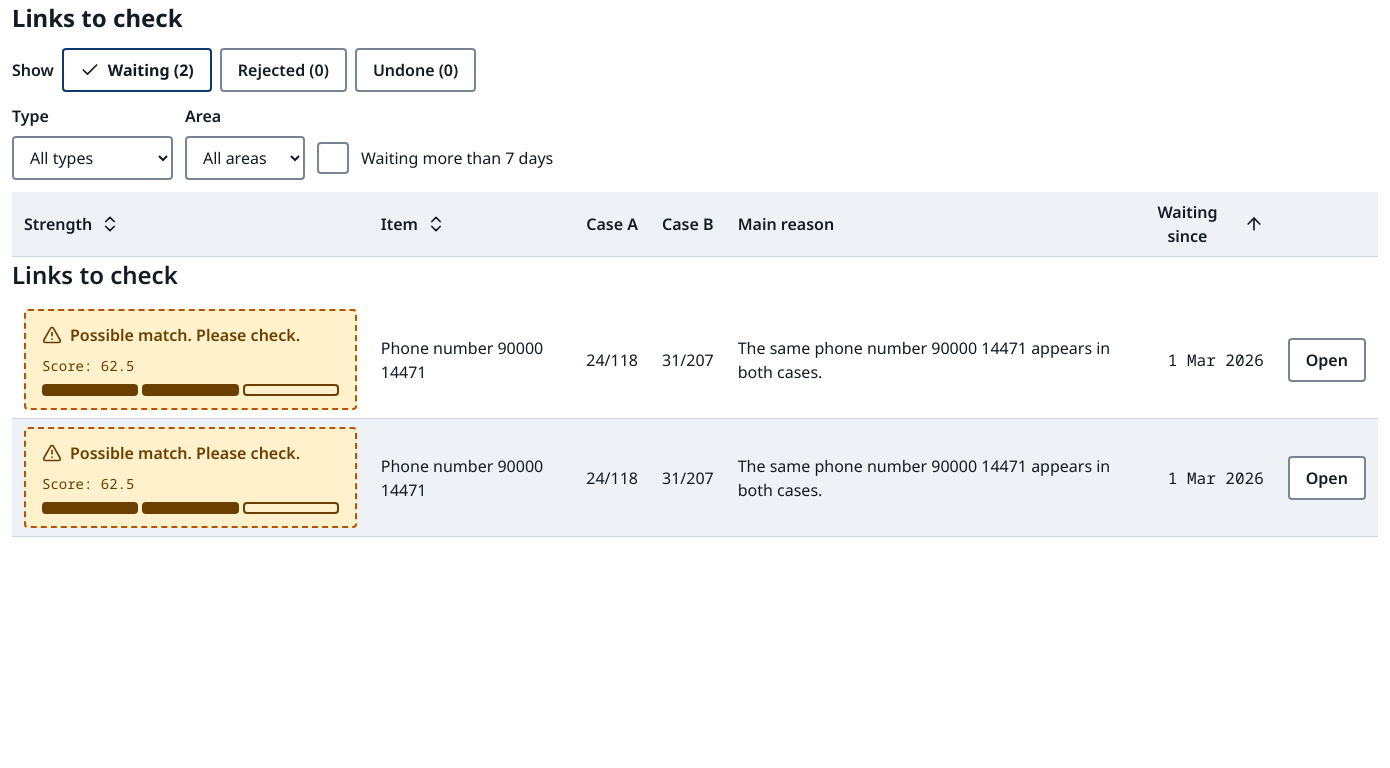
Confirm acts at once and sends the state the officer saw
Step 1. Click the 1st button "Open" → (1327, 360), box [1288,338,1366,382]
(page scrolled)
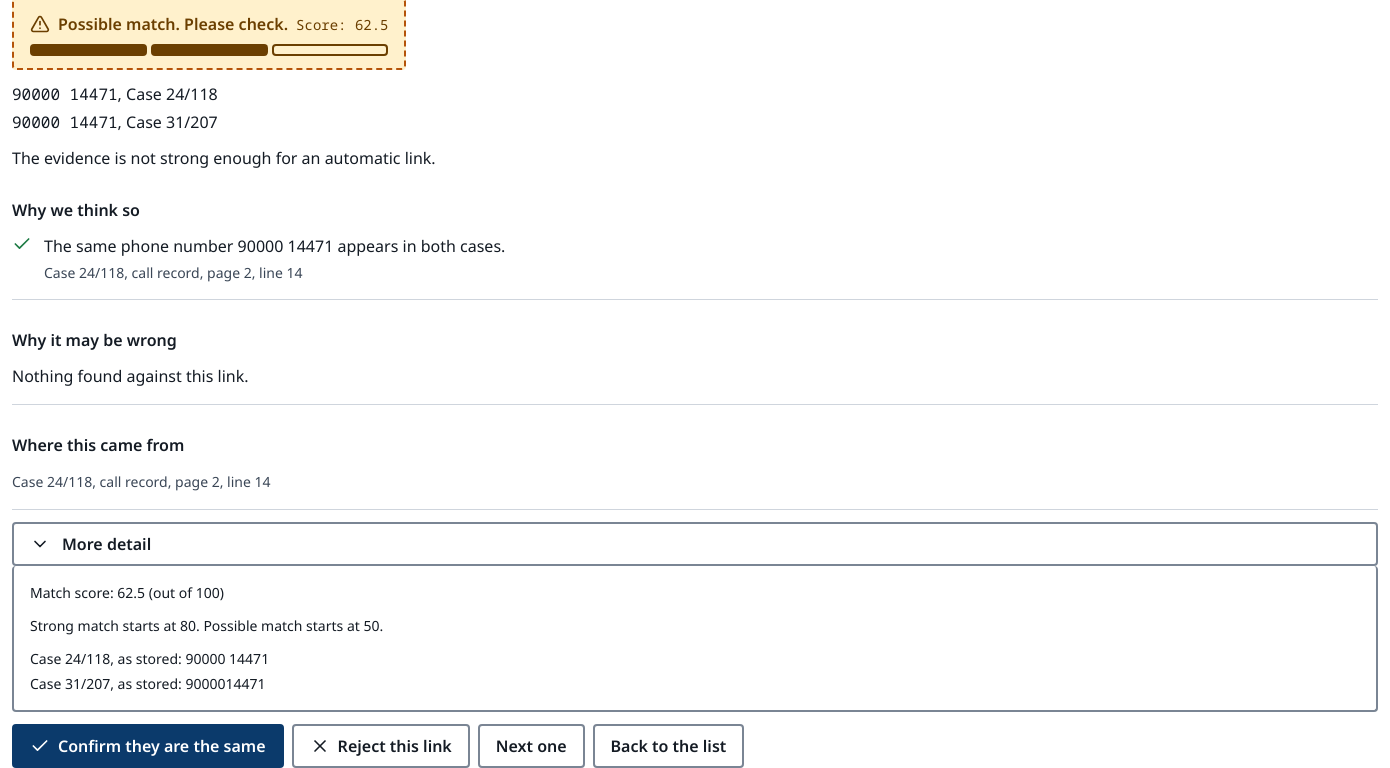
Step 2. Click the button "Confirm they are the same" → (148, 746), box [12,724,284,767]
(page scrolled)
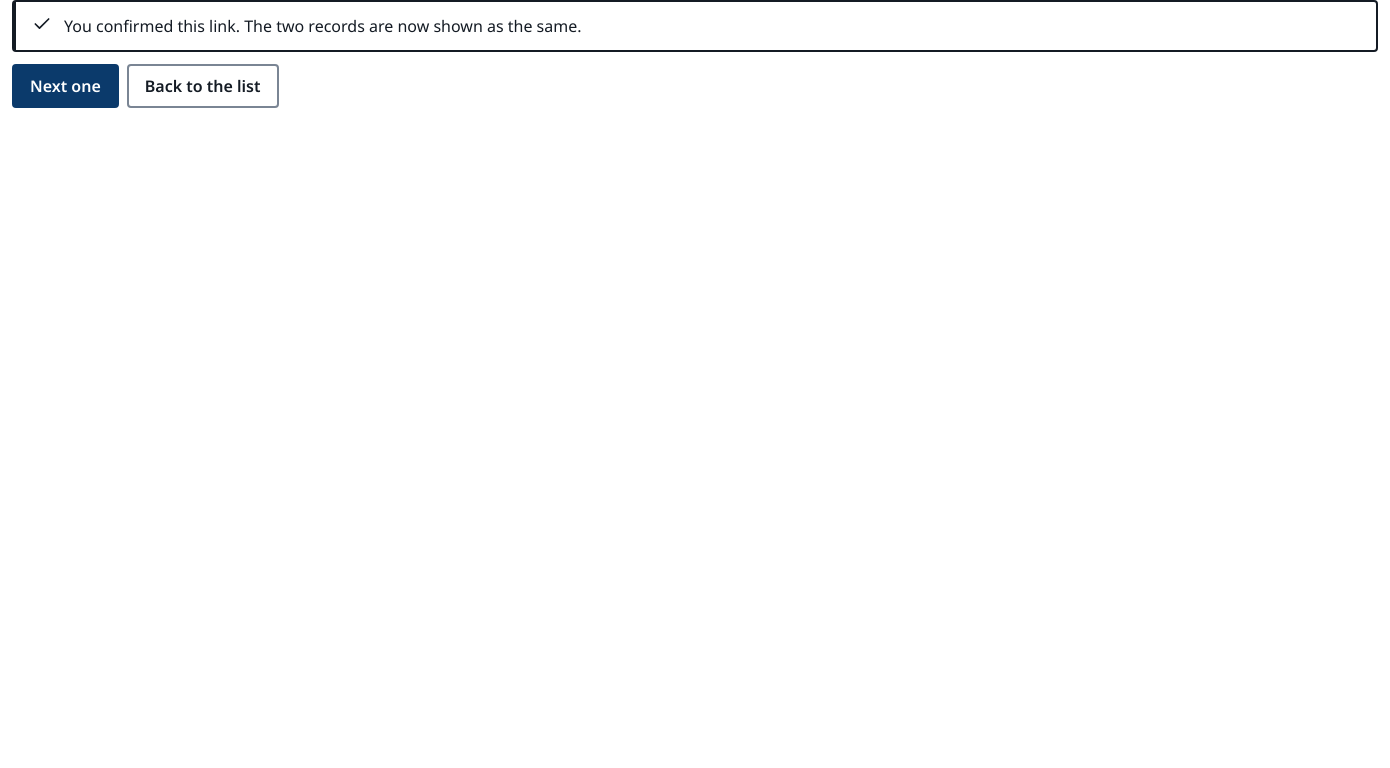
Check: the text "You confirmed this link. The two records are now shown as the same." is shown, box [64,15,582,37]
